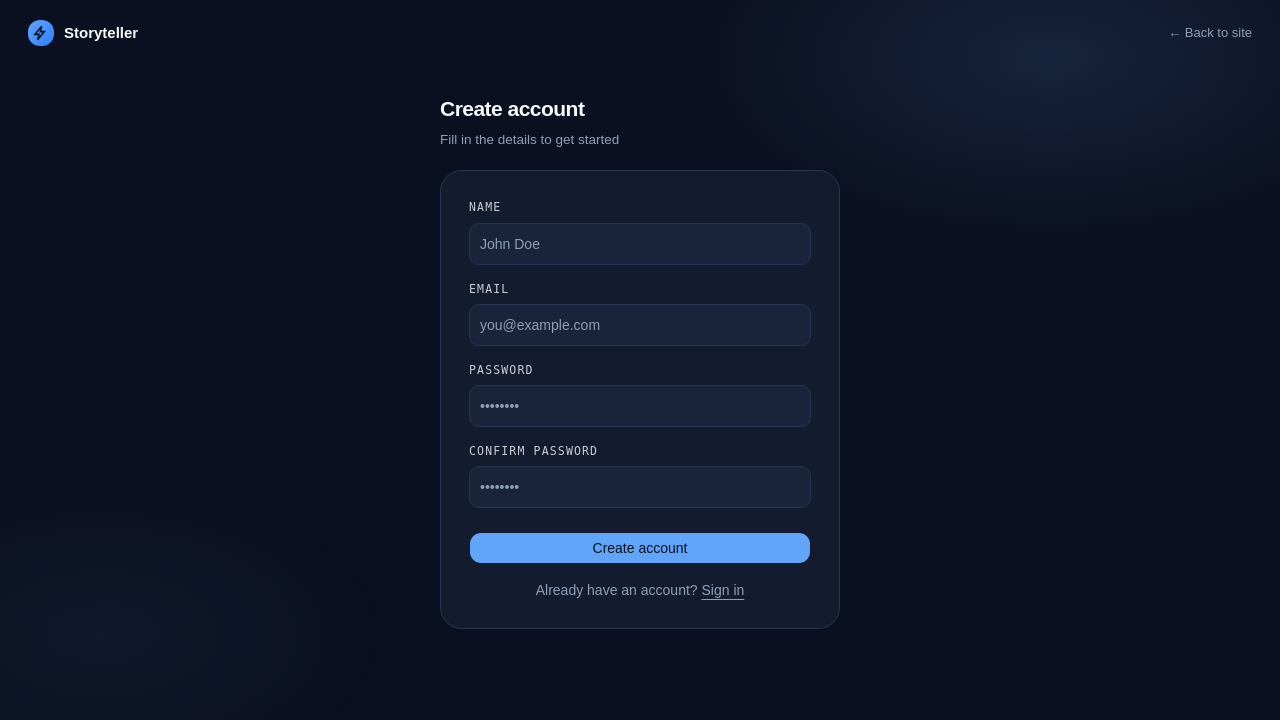
Scenario: SignupPage › shows error message when sign up returns an error
In the field labelled "Name": (640, 244) [469,223,811,265], type "Test"
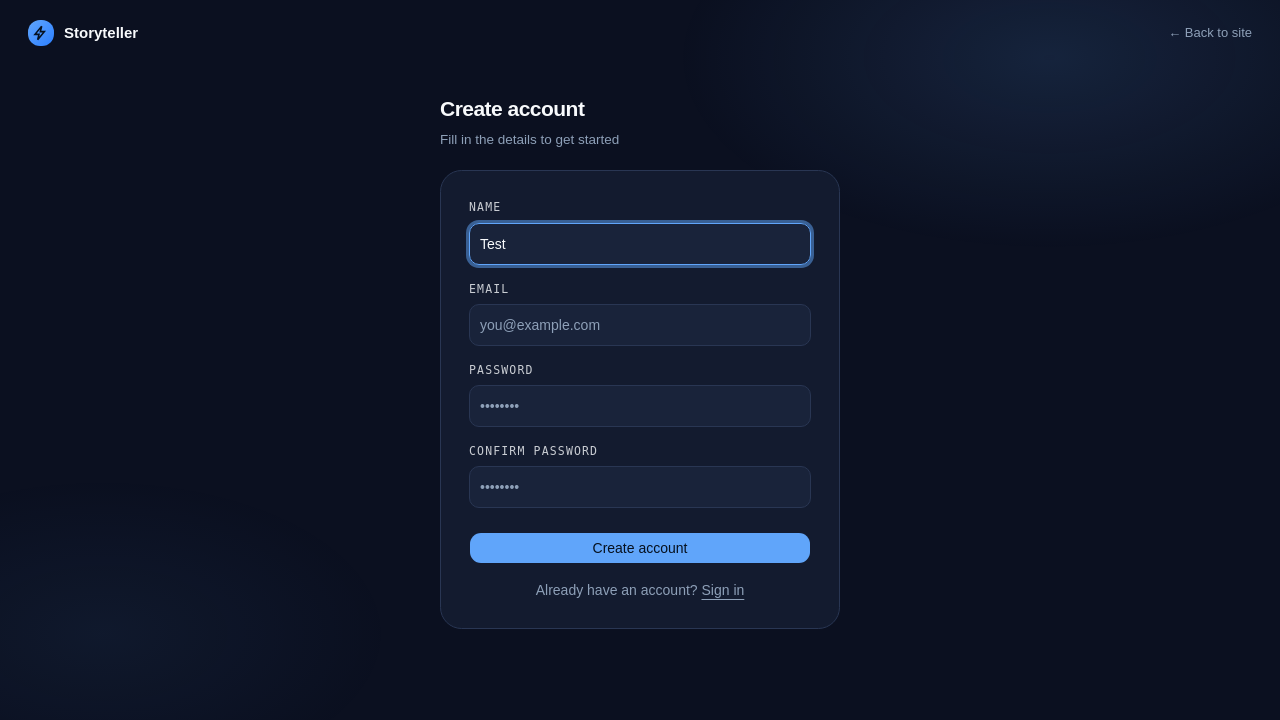
In the field labelled "Email": (640, 325) [469,304,811,346], type "taken@b.com"
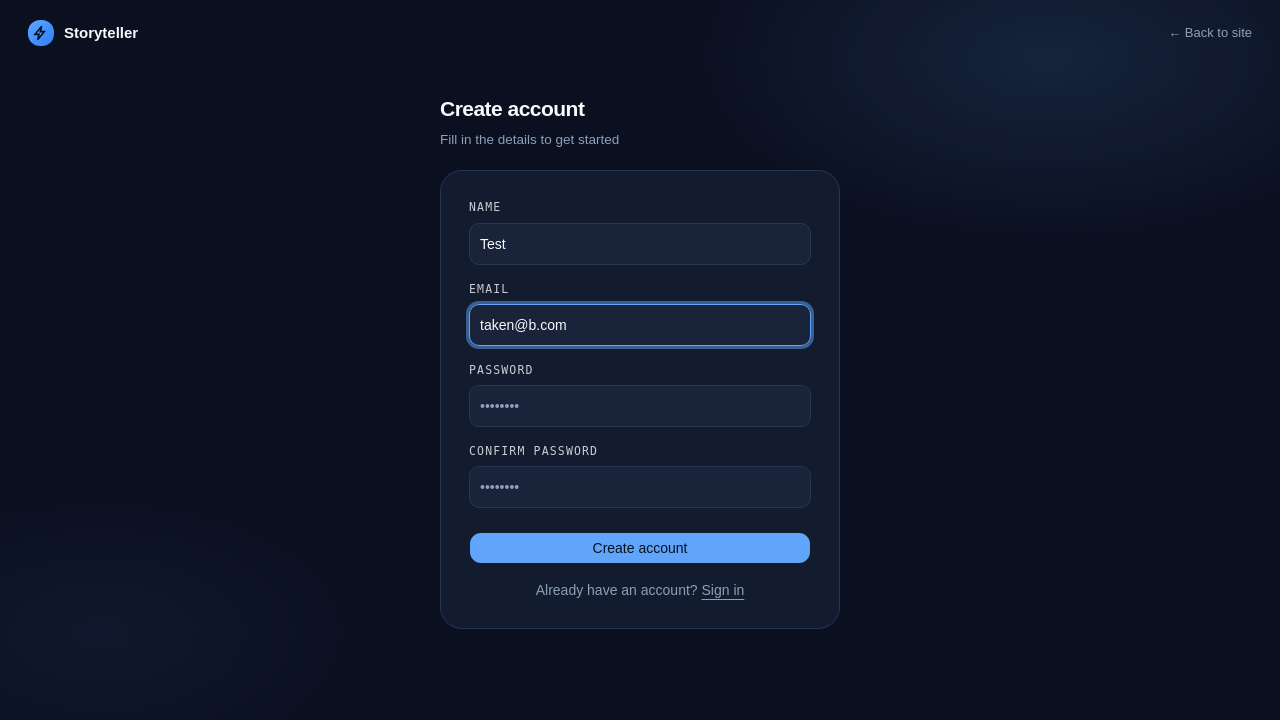
In the password field labelled "Password": (640, 406) [469,385,811,427], type "Testpass1"
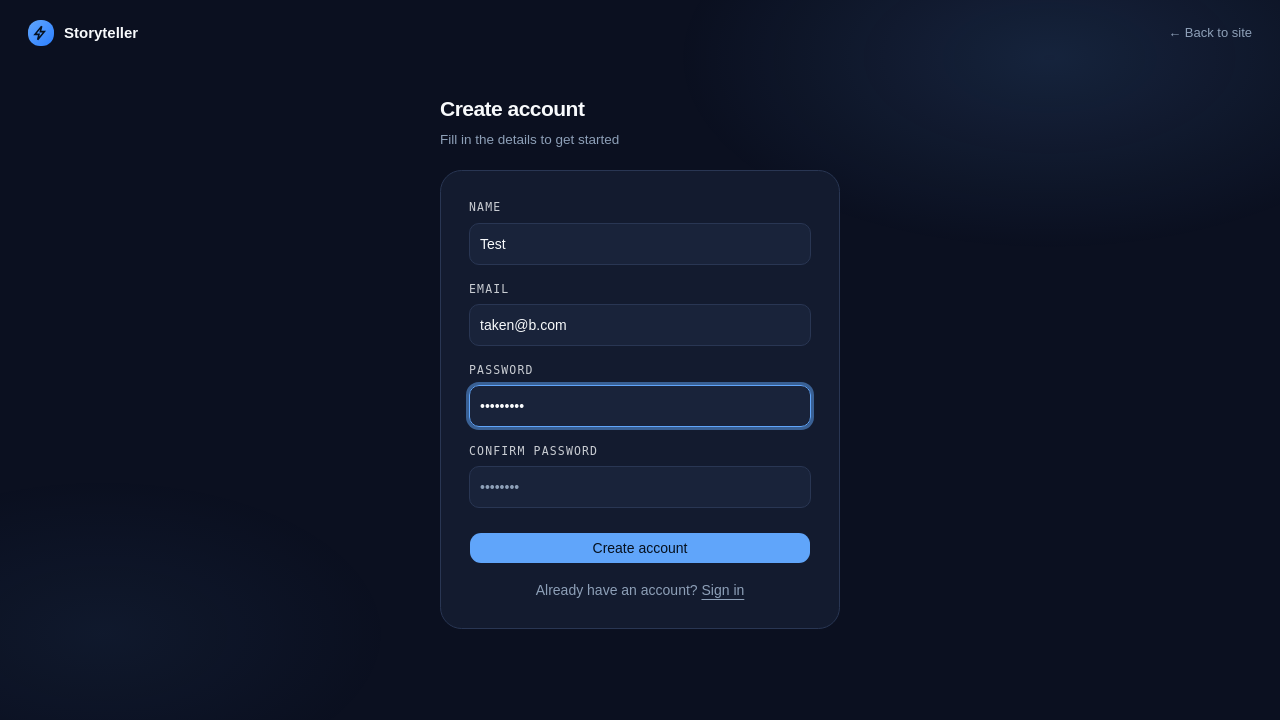
In the password field labelled "Confirm password": (640, 487) [469,466,811,508], type "Testpass1"
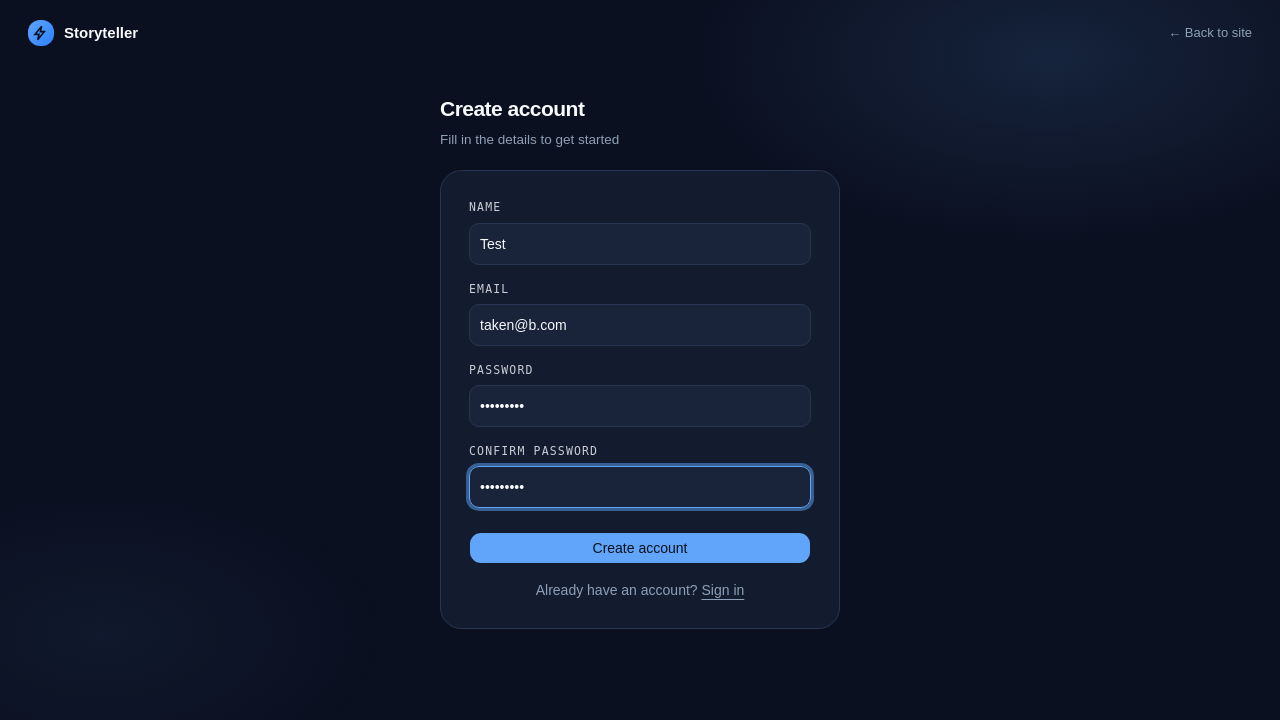
Click the button "Create account": (640, 548) [469,532,811,564]
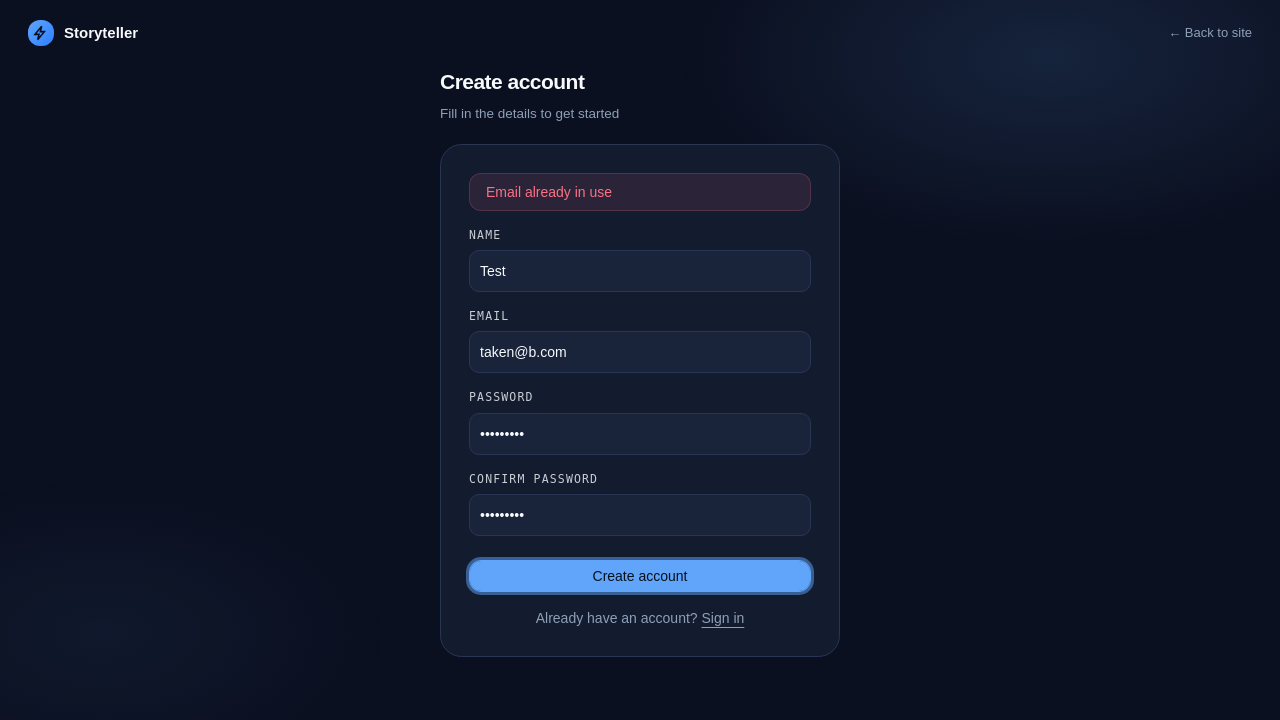
expect the text "Email already in use" is shown: met, box [469,173,811,211]
